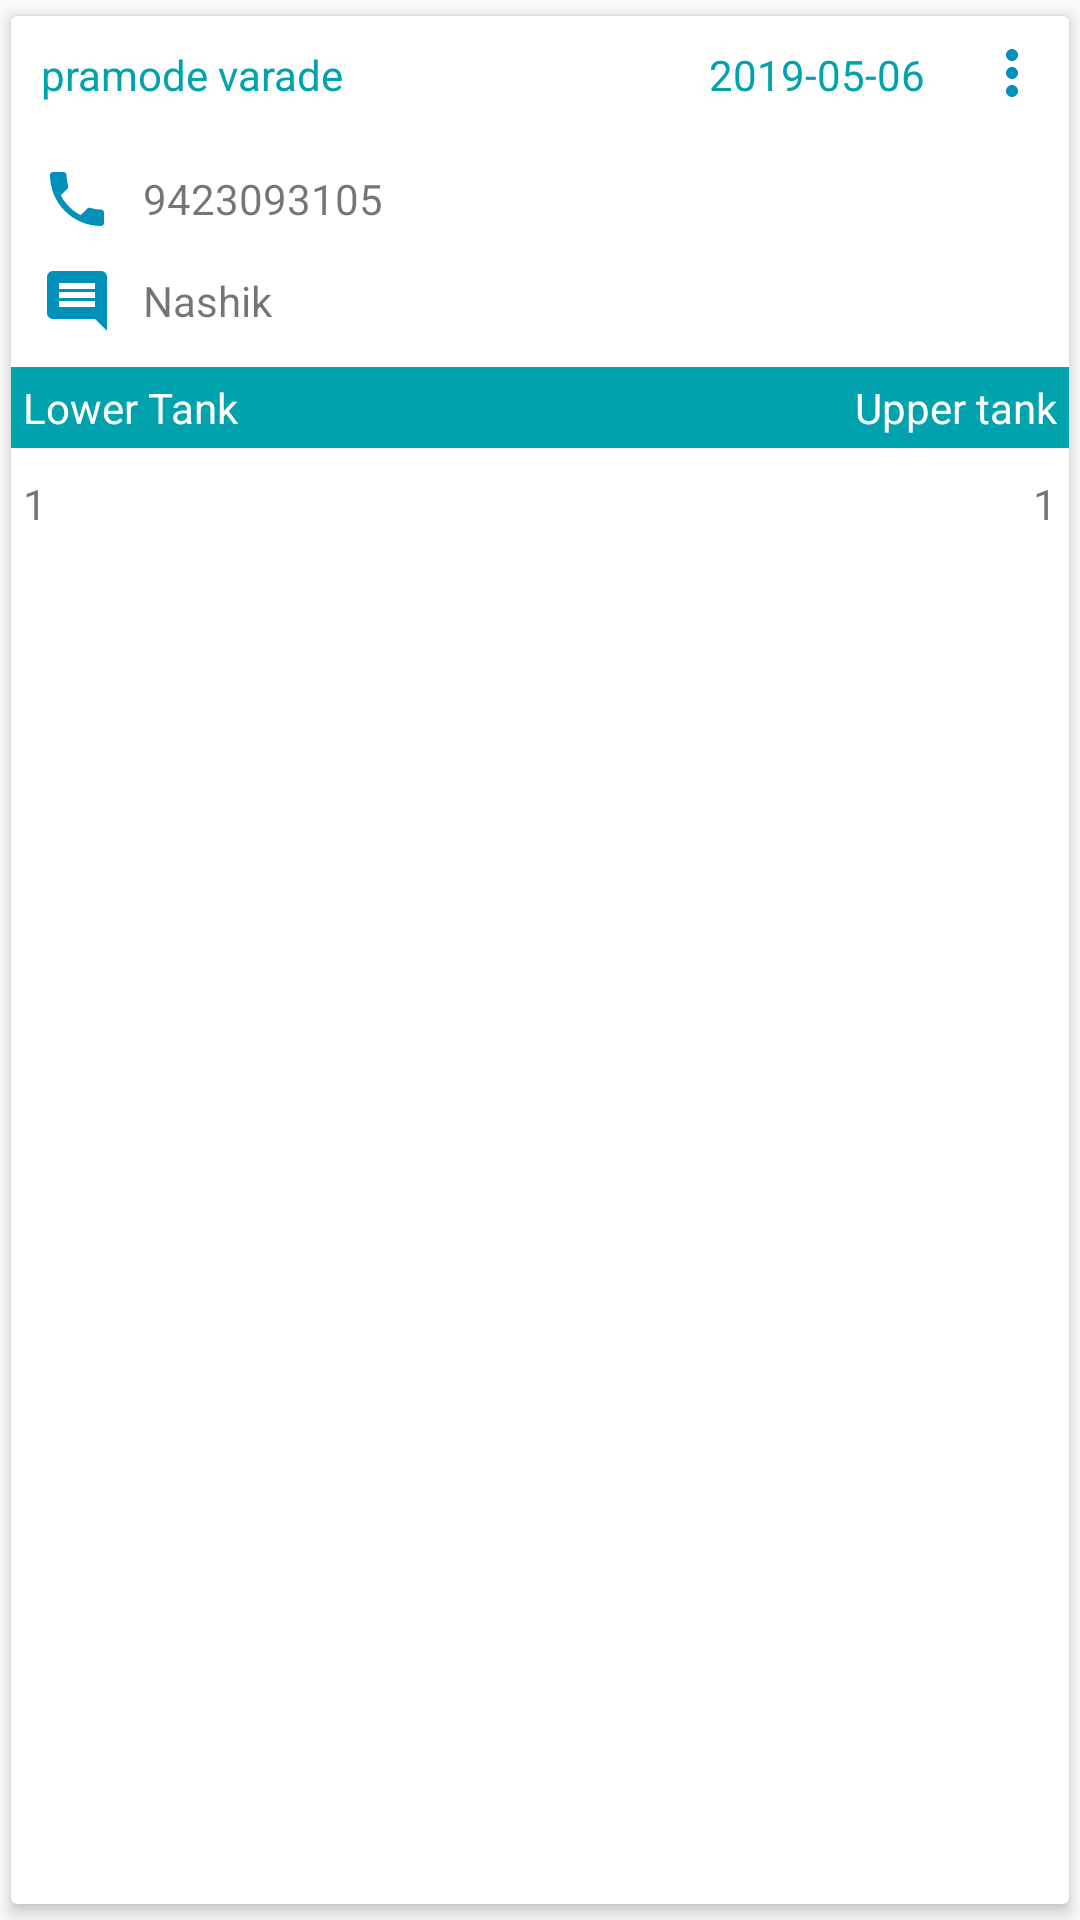

Icon bounding boxes for this 1080px x 1920px phone screenshot, format (x1, y1, x2, y2):
menu: (1006, 49, 1018, 97)
